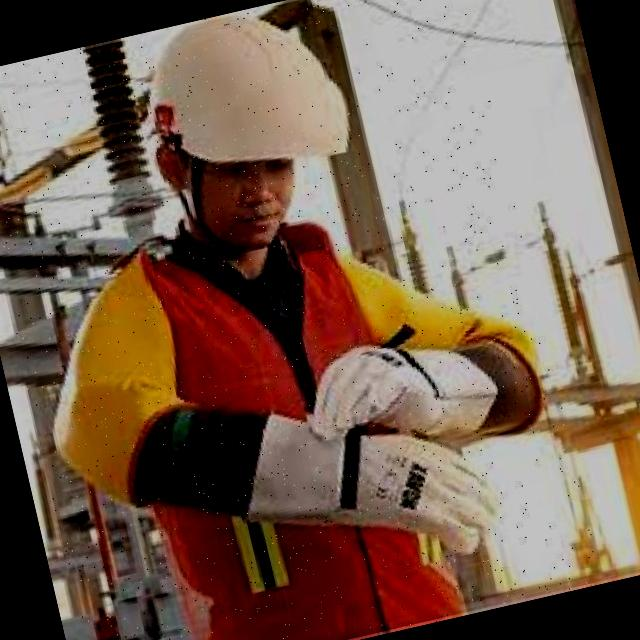gloves: (220, 366, 513, 590), (297, 322, 492, 463)
vest: (98, 200, 483, 640)
